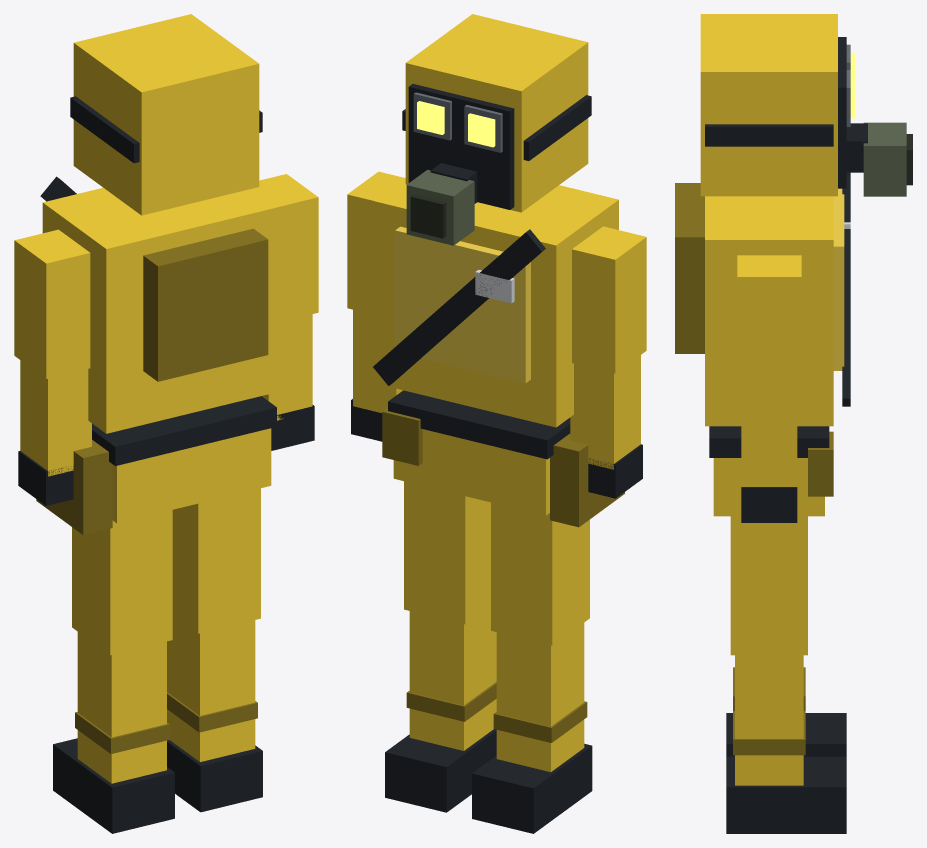
The model's file is gas_mask_hazmat_yellow.glb.
3 views of the same model, side by side, from view 1: azimuth 30°, elevation 25°; view 2: azimuth 150°, elevation 25°; view 3: azimuth 270°, elevation 25° (orthographic). The views are drawn at different scales.
Visible parts, largest first — view 1: Merged4, Merged, Merged7, Merged5, Merged6, _MeshInstance3D_1455, _MeshInstance3D_1466, _MeshInstance3D_1450, Merged2, _MeshInstance3D_1461, Merged3; view 2: Merged4, Merged, Merged7, Merged5, Merged6, _MeshInstance3D_1455, _MeshInstance3D_1466, _MeshInstance3D_1450, Merged2, _MeshInstance3D_1461, Merged3; view 3: Merged, Merged4, Merged6, _MeshInstance3D_1466, _MeshInstance3D_1461, Merged3, Merged7, Merged5.
Part boxes in pixels (x1,y1,x2,y2): Merged4: (40, 176, 290, 433); Merged: (70, 14, 262, 215); Merged7: (36, 396, 276, 534); Merged5: (53, 632, 174, 833); Merged6: (167, 615, 262, 812); _MeshInstance3D_1455: (72, 510, 172, 655); _MeshInstance3D_1466: (172, 488, 260, 633); _MeshInstance3D_1450: (14, 229, 90, 378); Merged2: (18, 360, 91, 505); _MeshInstance3D_1461: (259, 174, 318, 319); Merged3: (262, 314, 314, 450); Merged4: (373, 179, 618, 427); Merged: (402, 14, 591, 245); Merged7: (382, 390, 624, 527); Merged5: (472, 623, 592, 833); Merged6: (385, 606, 496, 812); _MeshInstance3D_1455: (491, 502, 589, 645); _MeshInstance3D_1466: (404, 481, 490, 624); _MeshInstance3D_1450: (572, 226, 646, 373); Merged2: (570, 355, 642, 498); _MeshInstance3D_1461: (347, 171, 405, 314); Merged3: (351, 309, 402, 441); Merged: (700, 14, 912, 196); Merged4: (675, 172, 850, 426); Merged6: (726, 655, 846, 833); _MeshInstance3D_1466: (730, 516, 807, 655); _MeshInstance3D_1461: (737, 255, 801, 393); Merged3: (741, 393, 797, 522); Merged7: (709, 426, 833, 516); Merged5: (726, 667, 846, 756).
Bounding box in the file's own units: 0.74 × 1.94 × 0.555.
